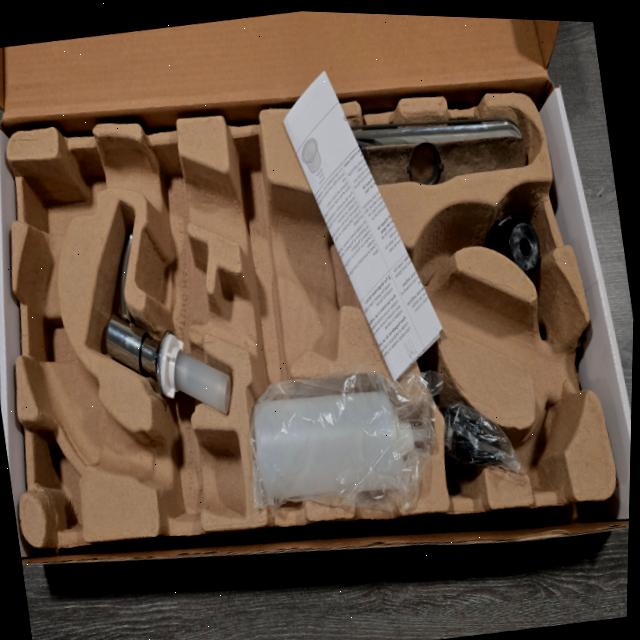1m: (27, 144, 597, 518)
2: (106, 230, 231, 416)
3: (254, 390, 437, 504)
4o: (322, 117, 527, 186)
5: (487, 212, 539, 272)
6m: (518, 393, 577, 490)
7: (439, 397, 521, 473)
8: (282, 67, 443, 380)
